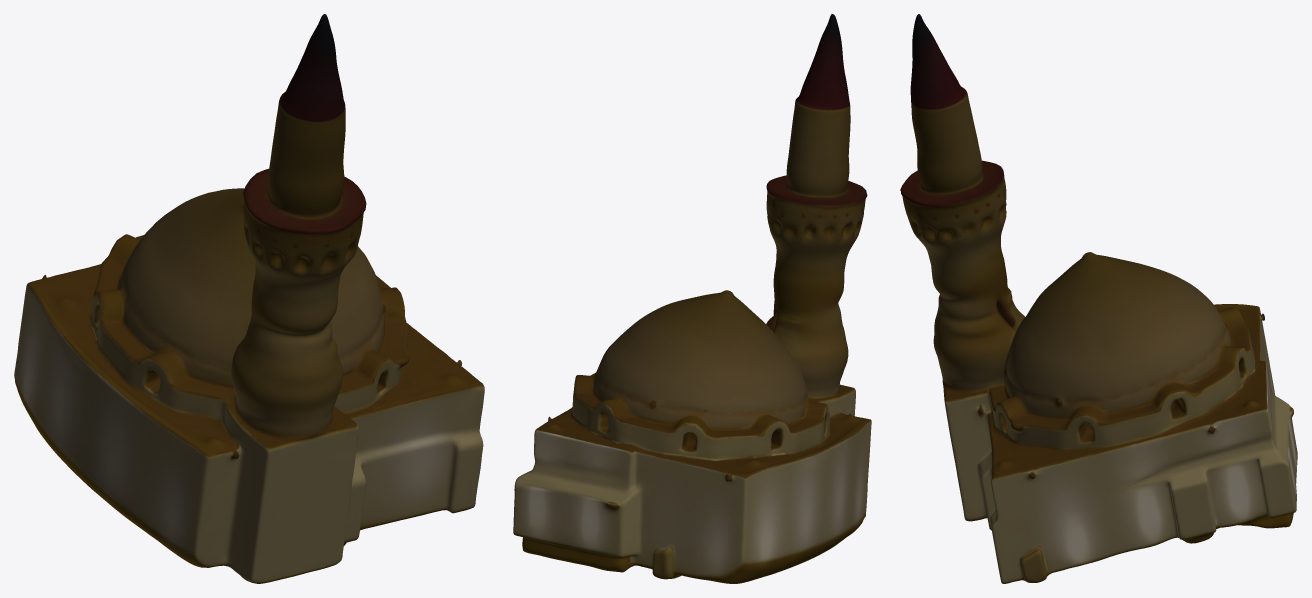
Rendered from masjid-abu-bakr.glb.
3 renders of one model, left to right at view 1: azimuth 30°, elevation 25°; view 2: azimuth 150°, elevation 25°; view 3: azimuth 270°, elevation 25°, orthographic. The views are drawn at different scales.
Visible parts, largest first — view 1: tripo_node_294cc7ff; view 2: tripo_node_294cc7ff; view 3: tripo_node_294cc7ff.
Boxes of the visible parts, x1=… form: tripo_node_294cc7ff: x1=14, y1=14, x2=484, y2=583; tripo_node_294cc7ff: x1=513, y1=14, x2=871, y2=583; tripo_node_294cc7ff: x1=900, y1=14, x2=1297, y2=583.
Bounding box in the file's own units: 56.81 × 97.75 × 71.66.
1 material, 1 textured.
